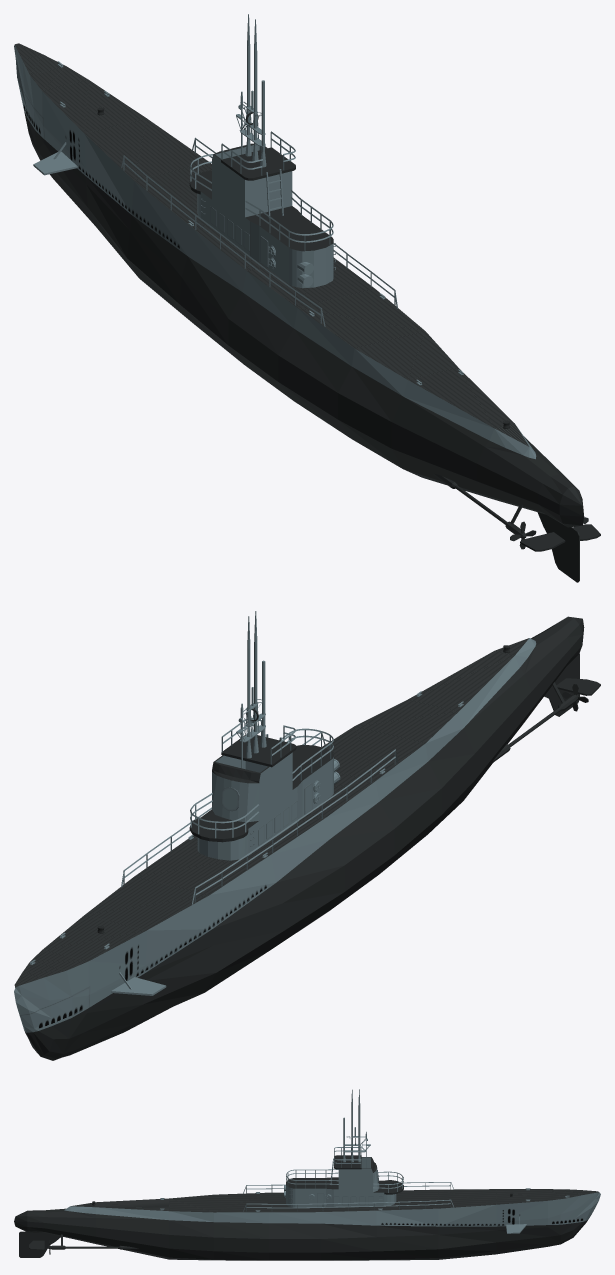
File: submarine.glb
3 views of the same model, one above another, from view 1: azimuth 30°, elevation 25°; view 2: azimuth 150°, elevation 25°; view 3: azimuth 270°, elevation 25° (orthographic). The views are drawn at different scales.
Parts seen in each view (by area): view 1: 00_chassis_submarine_small.mesh; view 2: 00_chassis_submarine_small.mesh; view 3: 00_chassis_submarine_small.mesh.
Part boxes in pixels (left/top/right/bottom): 00_chassis_submarine_small.mesh: left=14, top=14, right=600, bottom=582; 00_chassis_submarine_small.mesh: left=14, top=611, right=600, bottom=1060; 00_chassis_submarine_small.mesh: left=14, top=1089, right=600, bottom=1260.
Bounding box in the file's own units: 4.44 × 11.4 × 35.96.
Materials: 1 (1 with a texture image).
